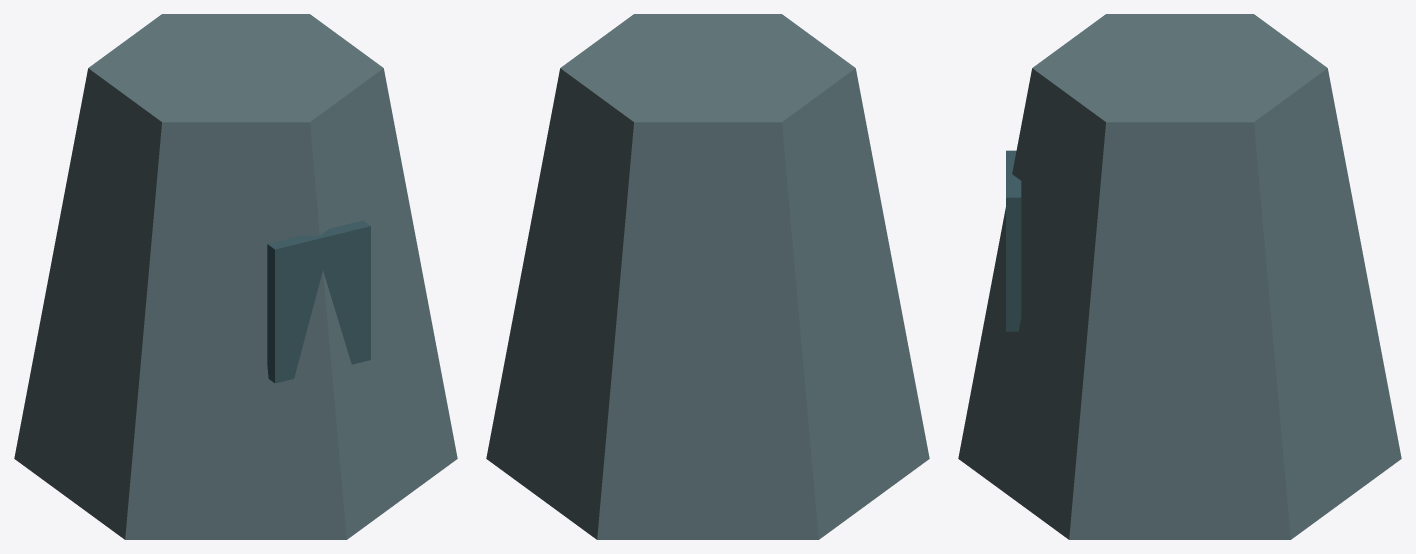
Rendered from loose.glb.
The picture shows the model from 3 angles, left to right: view 1: azimuth 30°, elevation 25°; view 2: azimuth 150°, elevation 25°; view 3: azimuth 270°, elevation 25°; orthographic projection.
Visible parts, largest first — view 1: loose_solid; view 2: loose_solid; view 3: loose_solid.
Part boxes in pixels (x1,y1,x2,y2): loose_solid: (14, 14, 457, 539); loose_solid: (486, 14, 929, 539); loose_solid: (958, 14, 1401, 539).
Bounding box in the file's own units: 0.6235 × 0.7 × 0.72.
